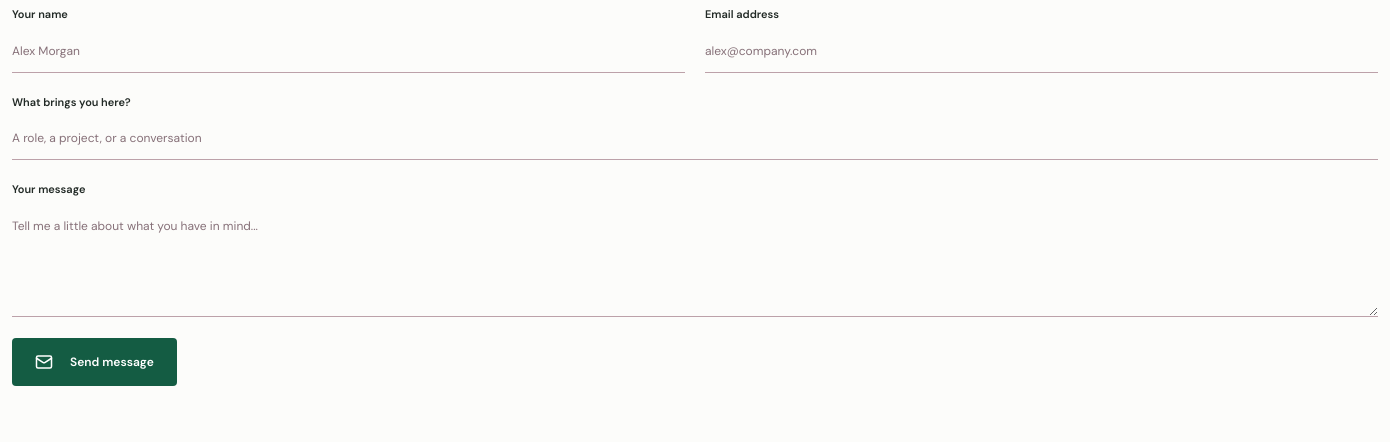
Test case: retains successful submission behavior when explicitly enabled
Step 1. Type "Hiring Manager" into the field named "name" → (348, 52), box [12,32,685,72]
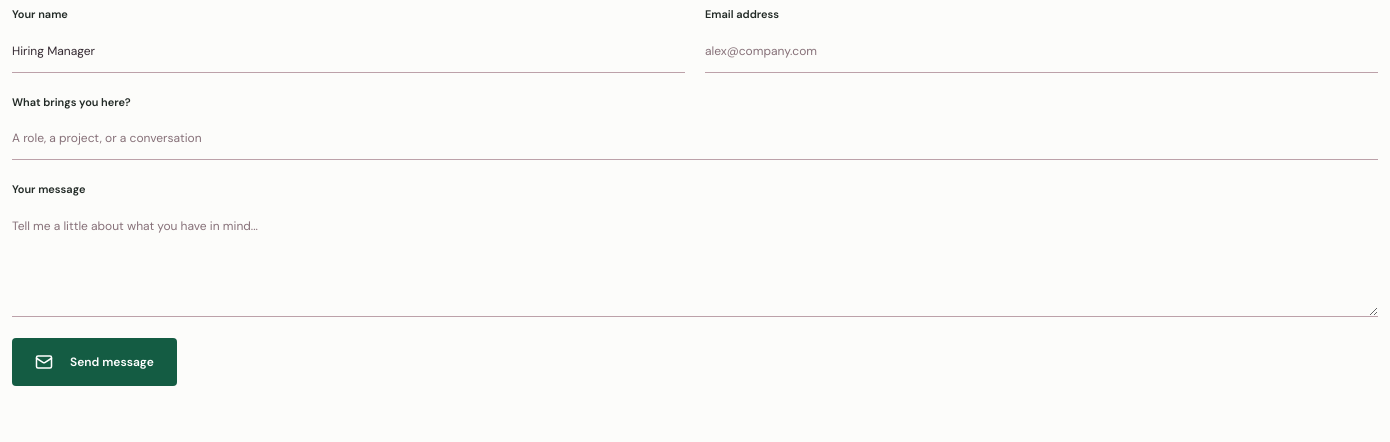
Step 2. Type "hiring@example.com" into the field named "email" → (1042, 52), box [705,32,1378,72]
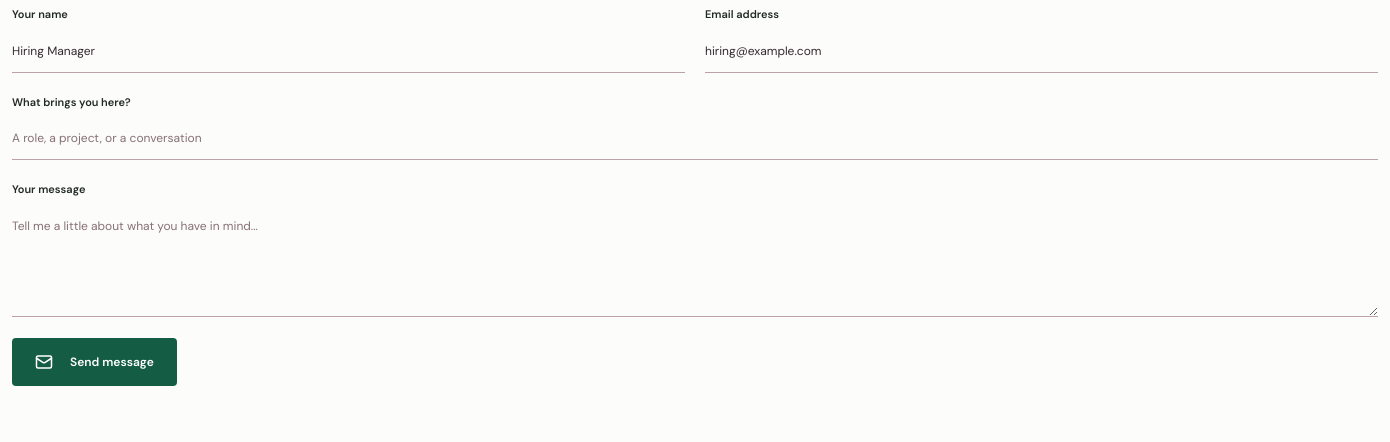
Step 3. Type "Interview" into the field named "subject" → (695, 140), box [12,119,1378,160]
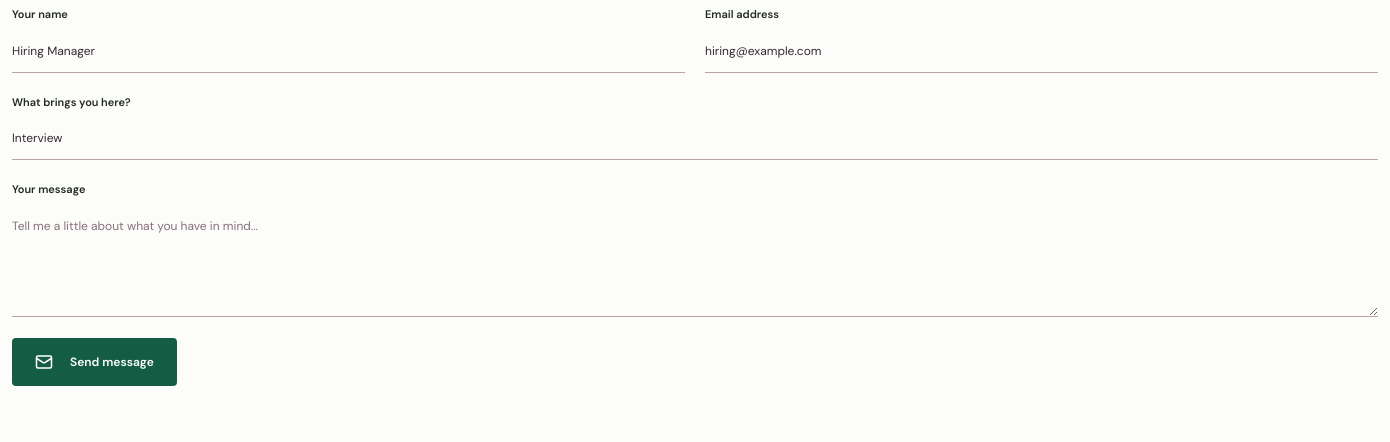
Step 4. Type "Let us discuss an opportunity next week." into the text box named "message" → (695, 262), box [12,206,1378,316]
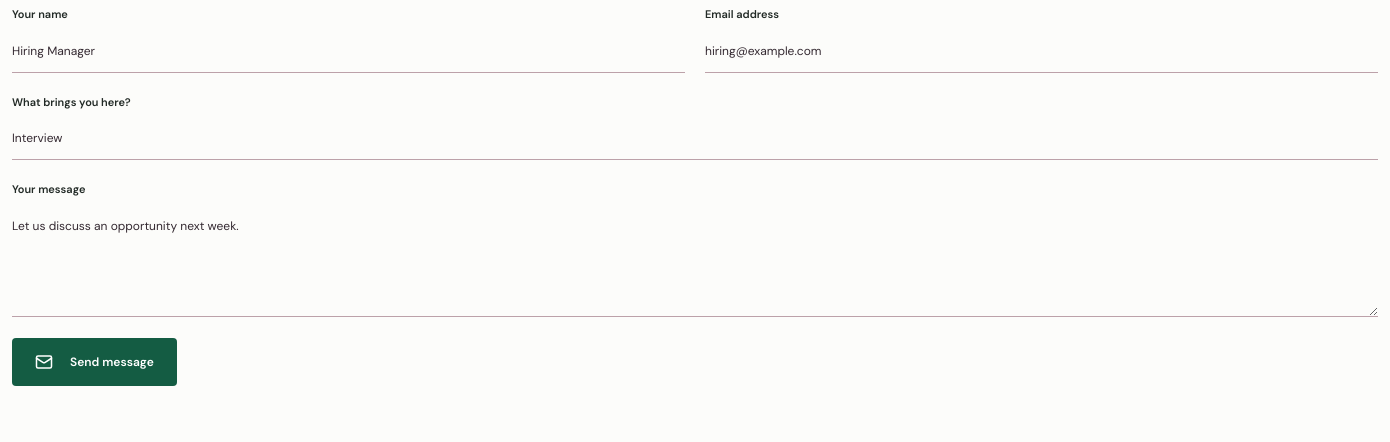
Step 5. Submit the form
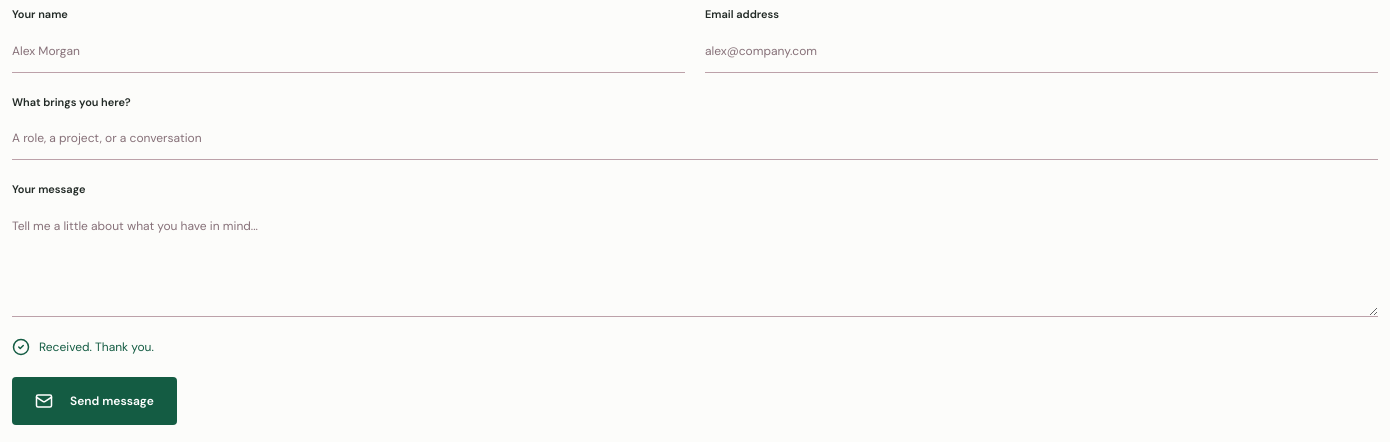
expect the message "Received. Thank you." is shown: met, box [12,338,154,356]
expect the field named "name" is empty: met, box [12,32,685,72]
